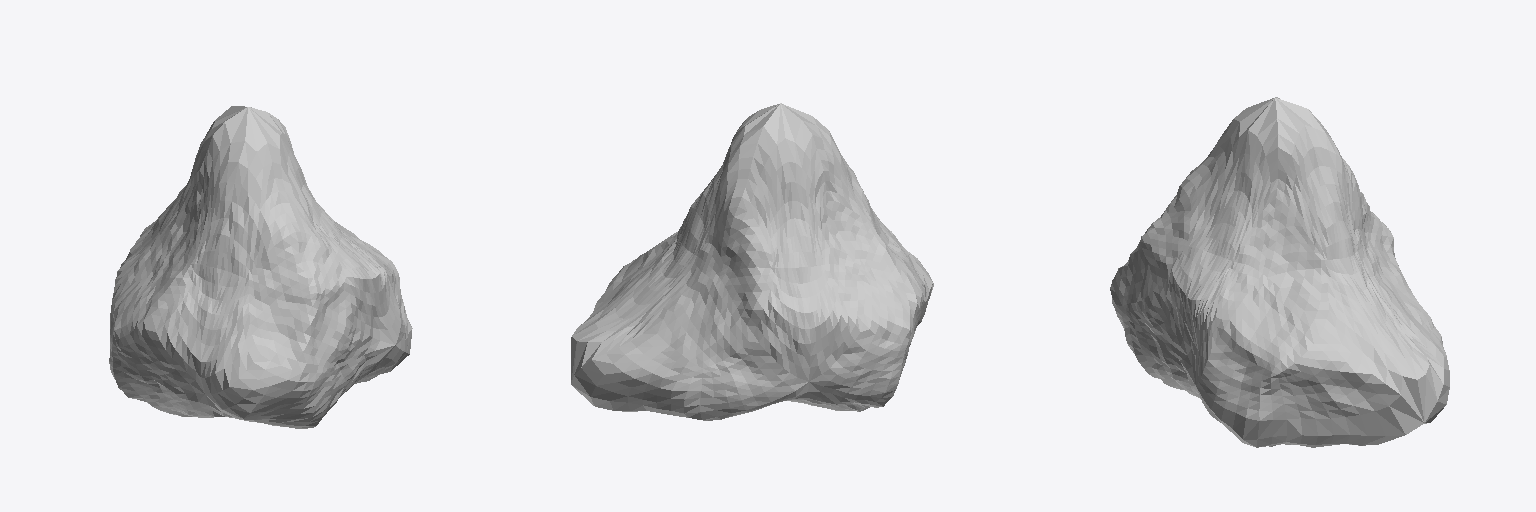
File: Asteroid5.obj
3 views of the same model, side by side, from view 1: azimuth 30°, elevation 25°; view 2: azimuth 150°, elevation 25°; view 3: azimuth 270°, elevation 25° (orthographic).
Parts seen in each view (by area): view 1: rock.004; view 2: rock.004; view 3: rock.004.
Boxes of the visible parts, x1,y1,x2,y2 form: rock.004: [109, 106, 412, 428]; rock.004: [571, 103, 933, 420]; rock.004: [1110, 97, 1449, 447].
Size of the model in its own units: 1.1 by 1.14 by 1.14.